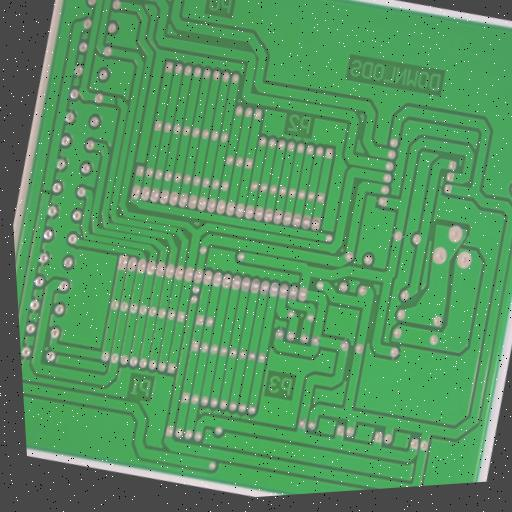open_circuit: (39, 182, 55, 201), (106, 93, 123, 109), (133, 0, 151, 5)
